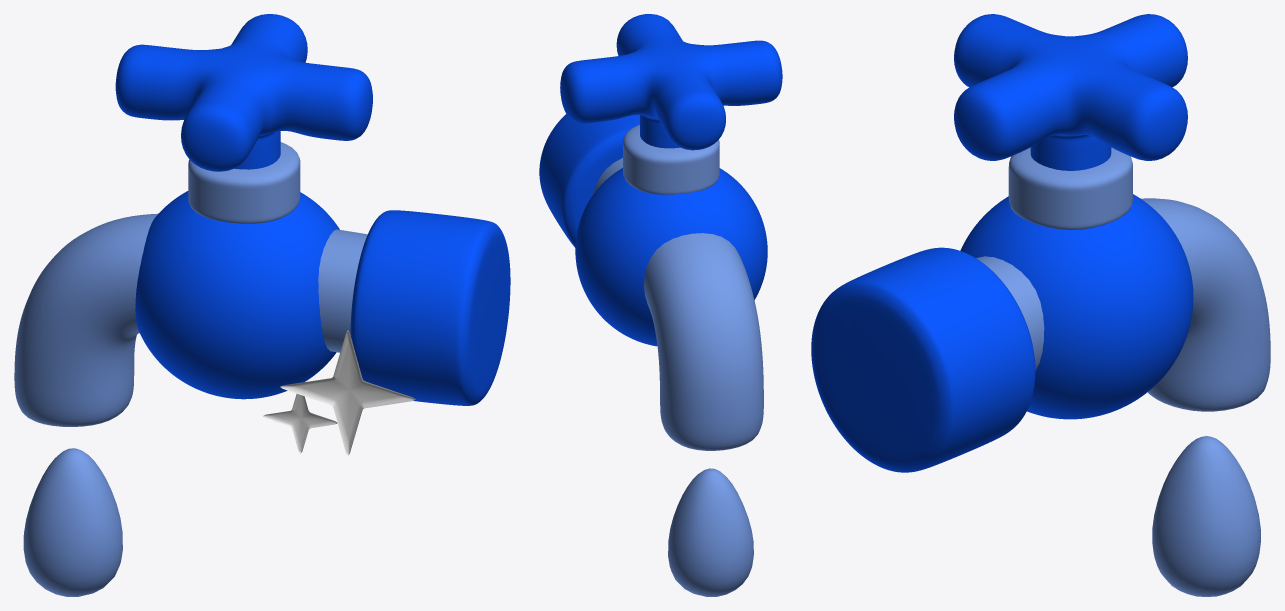
The model's file is 20.  Tap.gltf.
3 renders of one model, left to right at view 1: azimuth 30°, elevation 25°; view 2: azimuth 150°, elevation 25°; view 3: azimuth 270°, elevation 25°, orthographic. The views are drawn at different scales.
Parts seen in each view (by area): view 1: Sphere.004, Cylinder.018, Plane.066, Plane.068, Cube.023, Plane.067, Plane.069; view 2: Plane.066, Plane.068, Sphere.004, Cube.023, Cylinder.018, Plane.067; view 3: Cylinder.018, Sphere.004, Plane.068, Plane.066, Cube.023, Plane.067.
Part boxes in pixels (x1,y1,x2,y2): Sphere.004: (135, 191, 339, 399); Cylinder.018: (350, 210, 510, 405); Plane.066: (14, 213, 367, 426); Plane.068: (115, 14, 372, 171); Cube.023: (23, 448, 122, 596); Plane.067: (188, 142, 300, 223); Plane.069: (263, 330, 415, 455); Plane.066: (593, 158, 763, 450); Plane.068: (560, 14, 782, 150); Sphere.004: (575, 168, 767, 346); Cube.023: (668, 468, 753, 596); Cylinder.018: (539, 114, 639, 247); Plane.067: (623, 124, 719, 194); Cylinder.018: (811, 247, 1035, 472); Sphere.004: (960, 194, 1193, 419); Plane.068: (954, 14, 1187, 170); Plane.066: (976, 198, 1270, 411); Cube.023: (1152, 436, 1260, 596); Plane.067: (1008, 147, 1132, 229).
Bounding box in the file's own units: 3.21 × 4.59 × 3.19.
